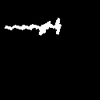double_crochet: (5, 18, 60, 34)
